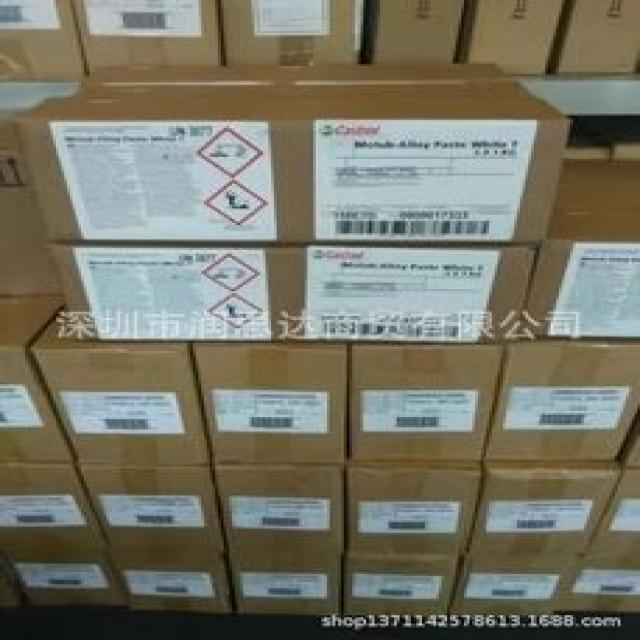box: (11, 57, 572, 244), (55, 239, 536, 335), (26, 293, 213, 466), (522, 159, 637, 337), (196, 340, 353, 463), (486, 336, 637, 459), (354, 339, 505, 460), (463, 459, 620, 560), (344, 458, 485, 555), (2, 294, 77, 463), (0, 103, 66, 295), (80, 463, 223, 551), (211, 461, 344, 554), (71, 2, 221, 74), (2, 461, 111, 554), (451, 554, 585, 622), (341, 549, 467, 620), (218, 2, 357, 64), (109, 545, 240, 609), (229, 550, 348, 614), (4, 549, 128, 608), (0, 0, 86, 81), (361, 2, 468, 60), (554, 0, 637, 73), (585, 456, 636, 569), (561, 563, 637, 613), (586, 113, 637, 161), (563, 117, 610, 159), (1, 556, 27, 608), (616, 417, 637, 467)
